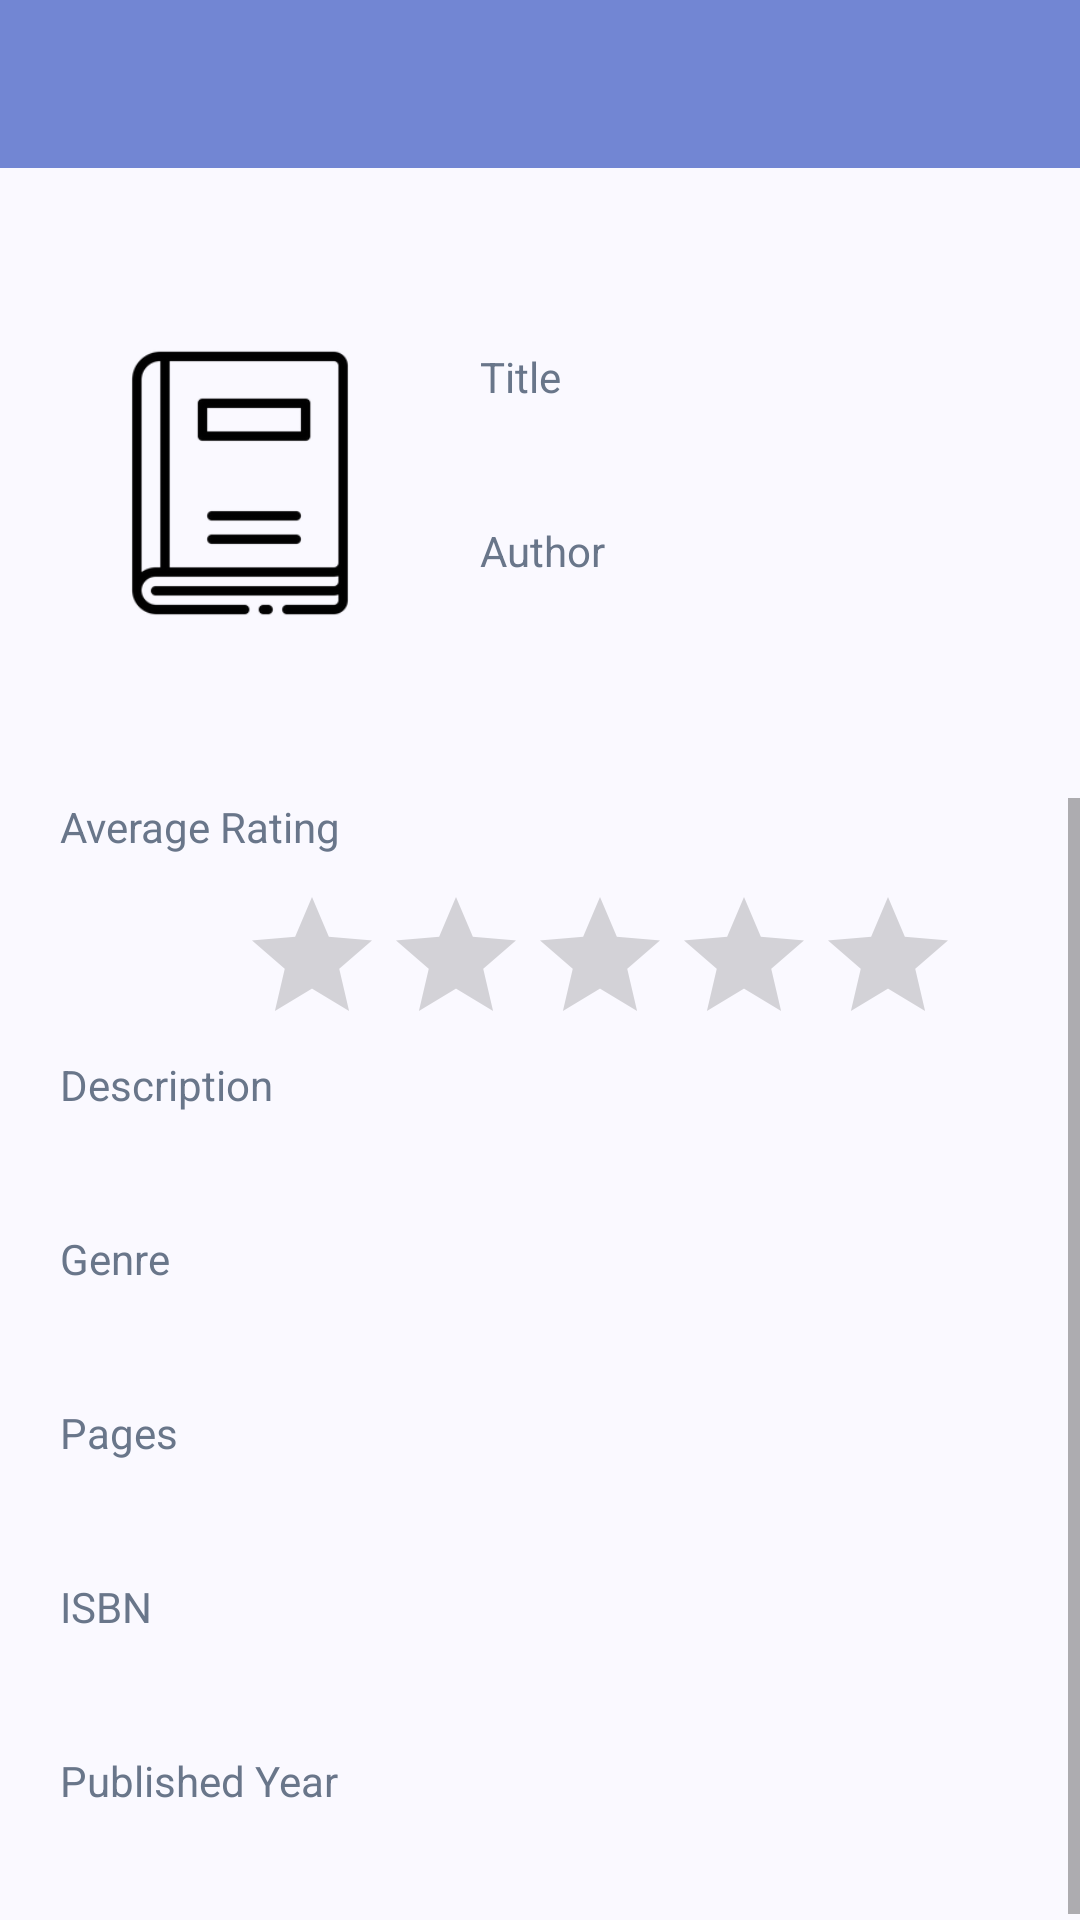

Icons on this 1080 × 1920 Android screen, each with its box as [left=x1, top=y1, right=x2, bottom=y2]:
book: [left=132, top=351, right=348, bottom=615]
